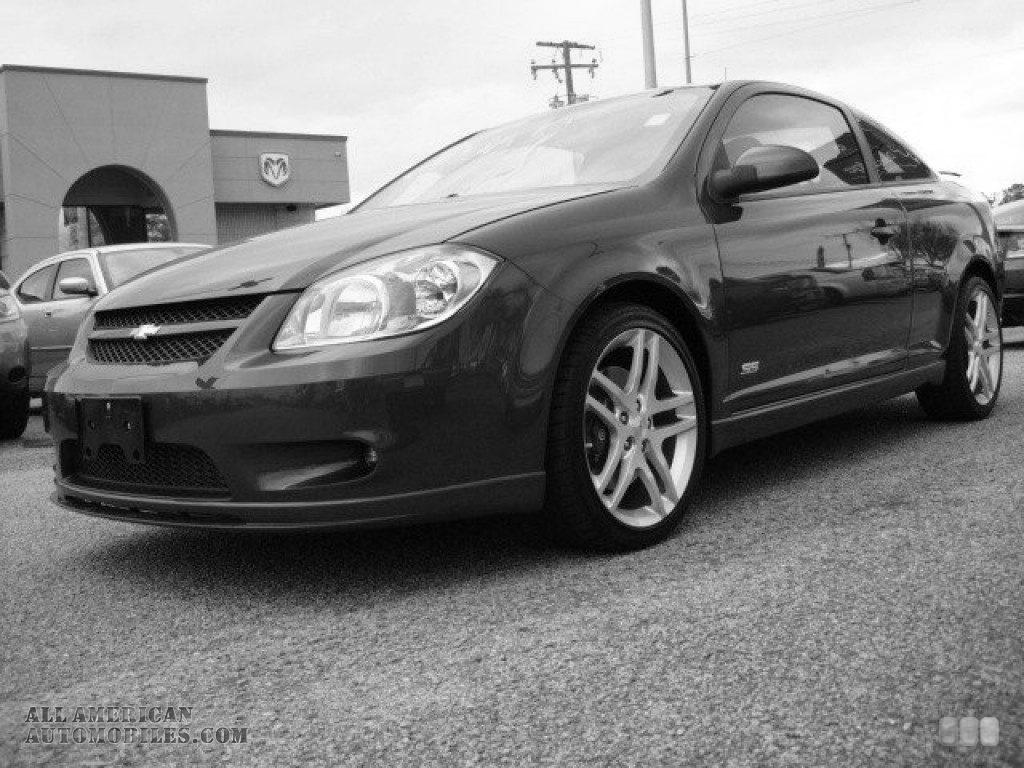car: (45, 85, 1005, 558)
